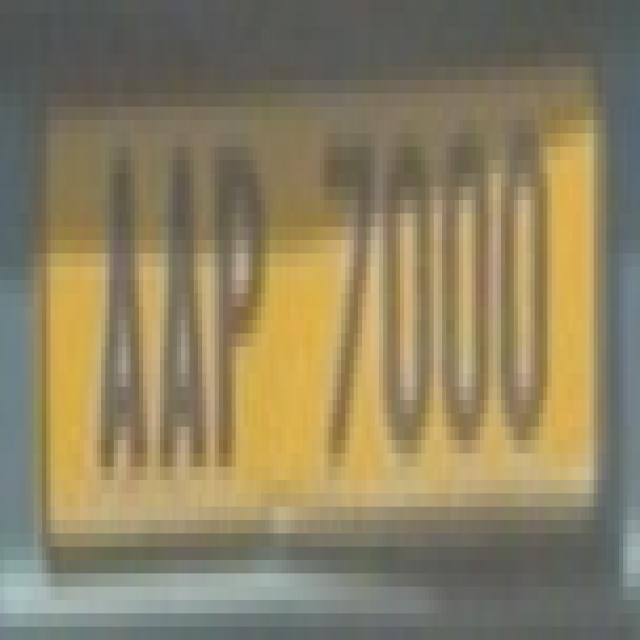licenseplate: (37, 43, 613, 574)
